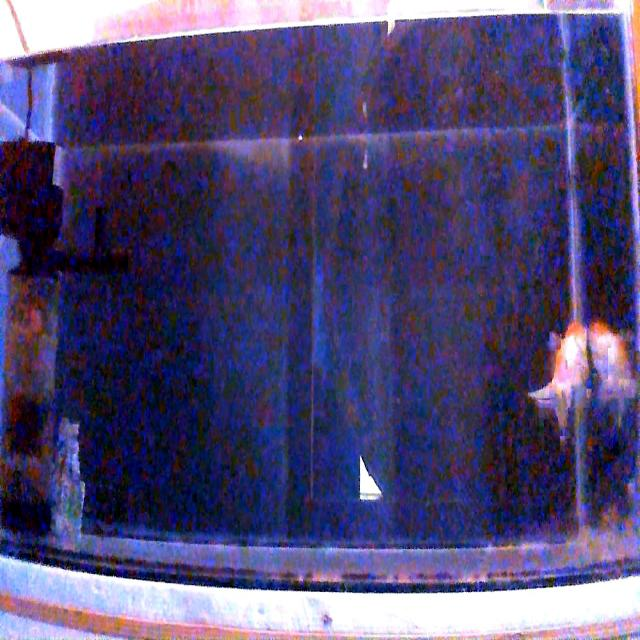fish: (531, 322, 586, 430), (589, 318, 636, 407)
